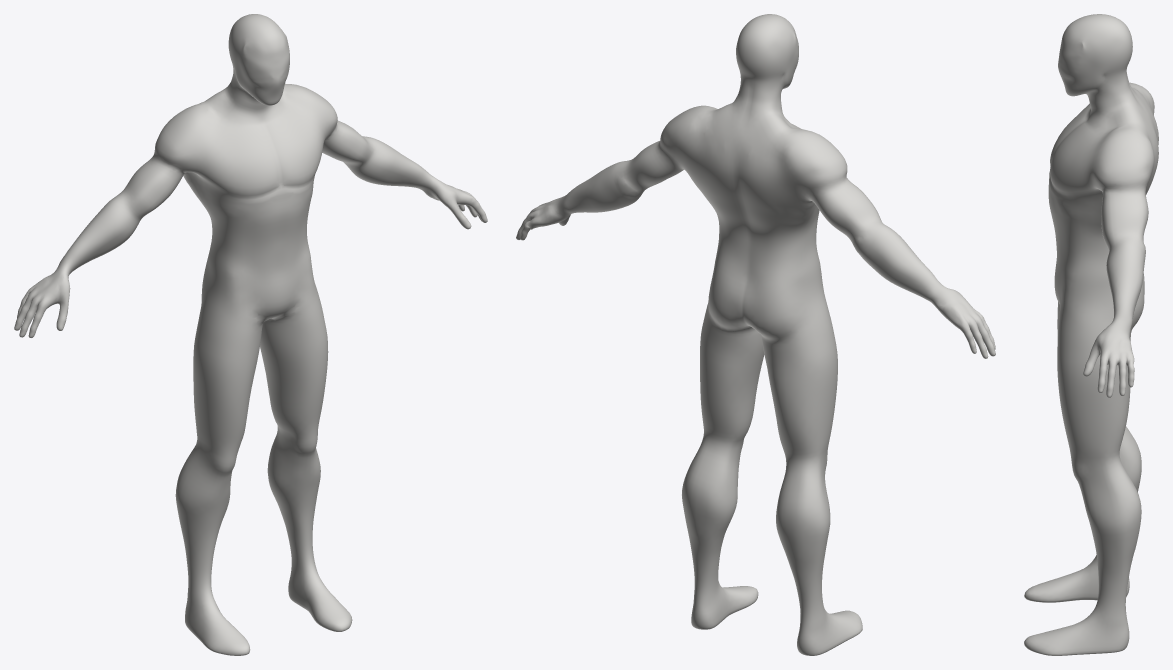
The model's file is human.glb.
The picture shows the model from 3 angles, left to right: view 1: azimuth 30°, elevation 25°; view 2: azimuth 150°, elevation 25°; view 3: azimuth 270°, elevation 25°; orthographic projection. The views are drawn at different scales.
Visible parts, largest first — view 1: BaseSpiderMan_Mesh_Model001_24_GTAMtl_1.0_0.0_0.001; view 2: BaseSpiderMan_Mesh_Model001_24_GTAMtl_1.0_0.0_0.001; view 3: BaseSpiderMan_Mesh_Model001_24_GTAMtl_1.0_0.0_0.001.
Boxes of the visible parts, <box> form: BaseSpiderMan_Mesh_Model001_24_GTAMtl_1.0_0.0_0.001: <box>14,14,487,655</box>; BaseSpiderMan_Mesh_Model001_24_GTAMtl_1.0_0.0_0.001: <box>516,14,995,655</box>; BaseSpiderMan_Mesh_Model001_24_GTAMtl_1.0_0.0_0.001: <box>1024,14,1158,655</box>.
Size of the model in its own units: 3.63 by 4.47 by 0.9031.
Materials: 1 (1 with a texture image).
